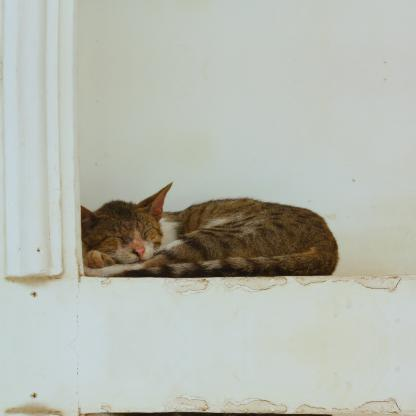Cat: (79, 180, 339, 278)
